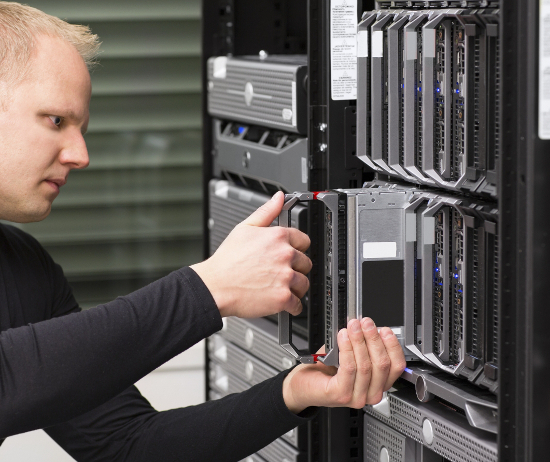ibm-server: (261, 185, 357, 382)
